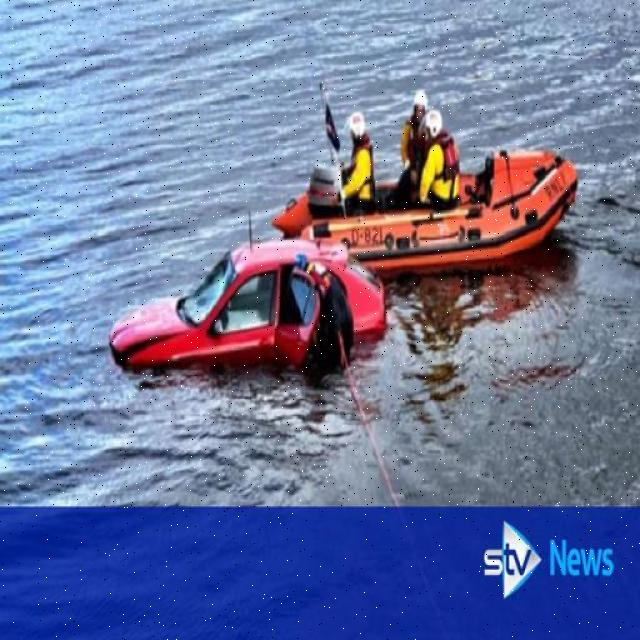rescuer: (320, 75, 396, 232), (416, 109, 468, 217)
